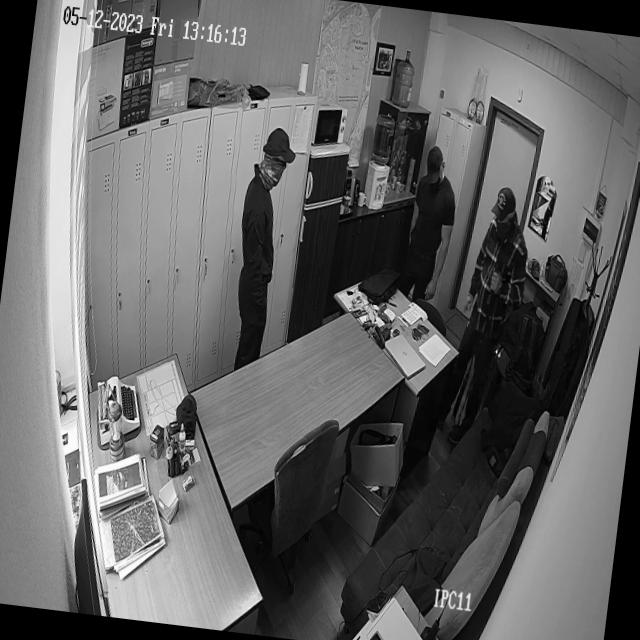gun: (478, 231, 511, 356)
person: (220, 126, 292, 374), (396, 144, 459, 306)
person with a gun: (436, 184, 536, 454)
